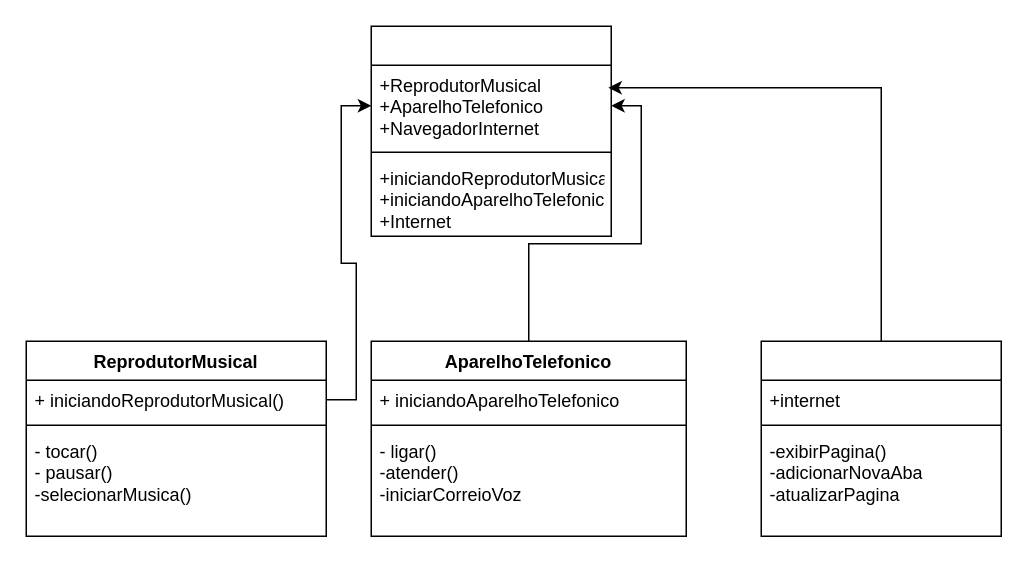
Some shapes in this 1028 by 567 pixel diagram are drawn without their labels. The box of each missing label's shape, as (x1, y1, x2, y2) in pixels:
Iphone: (370, 25, 611, 236)
NavegadorInternet: (760, 340, 1001, 536)
